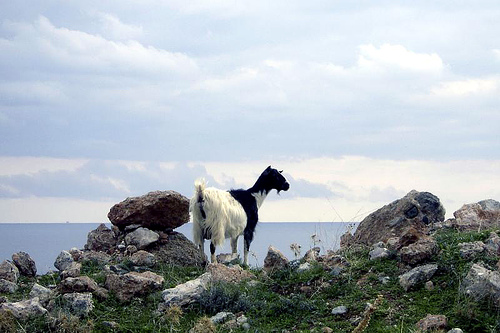goat: (190, 165, 291, 270)
